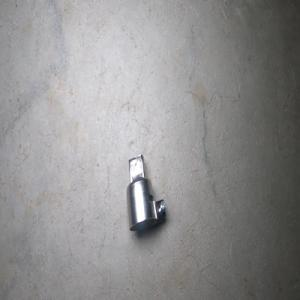MetalPart: (125, 153, 166, 231)
